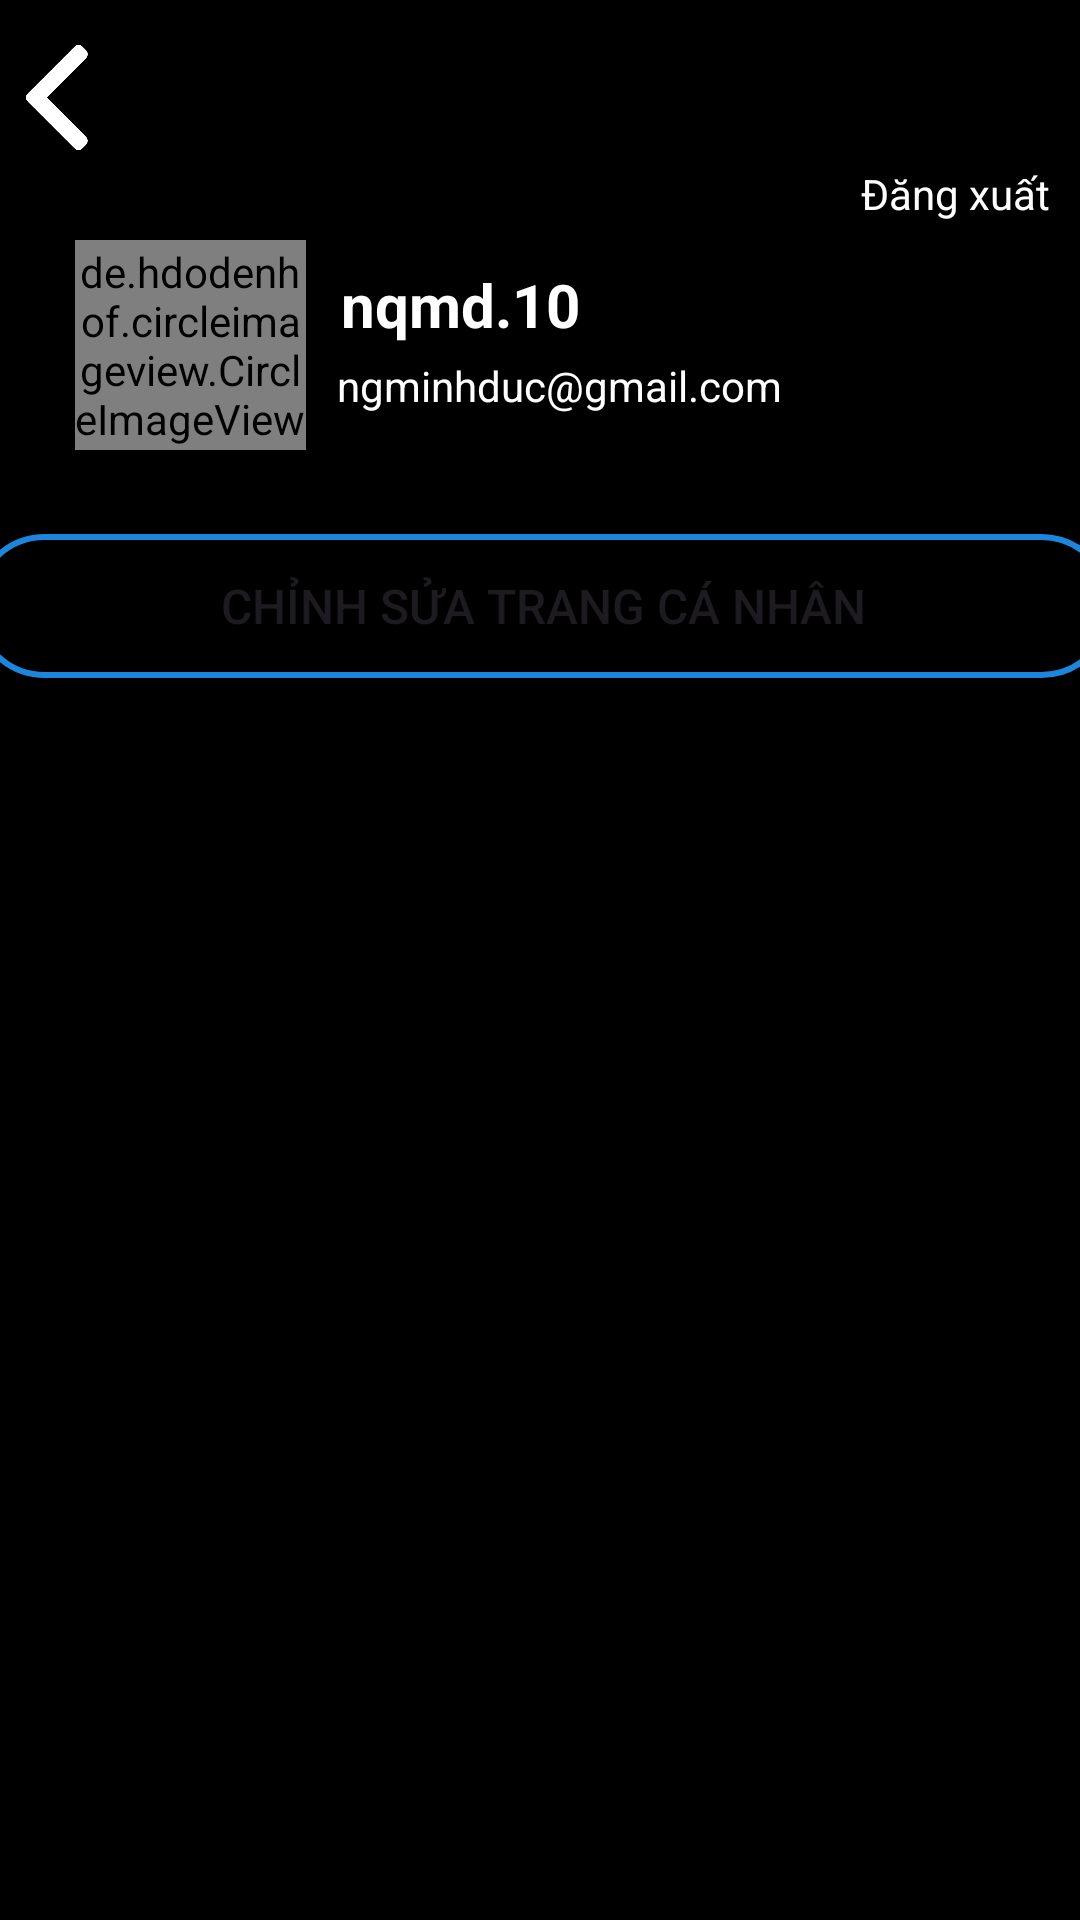

Locate icon controls on the screen. Image size 1080*1920, boxes as (x1, y1, x2, y2).
arrow: (26, 45, 88, 150)
